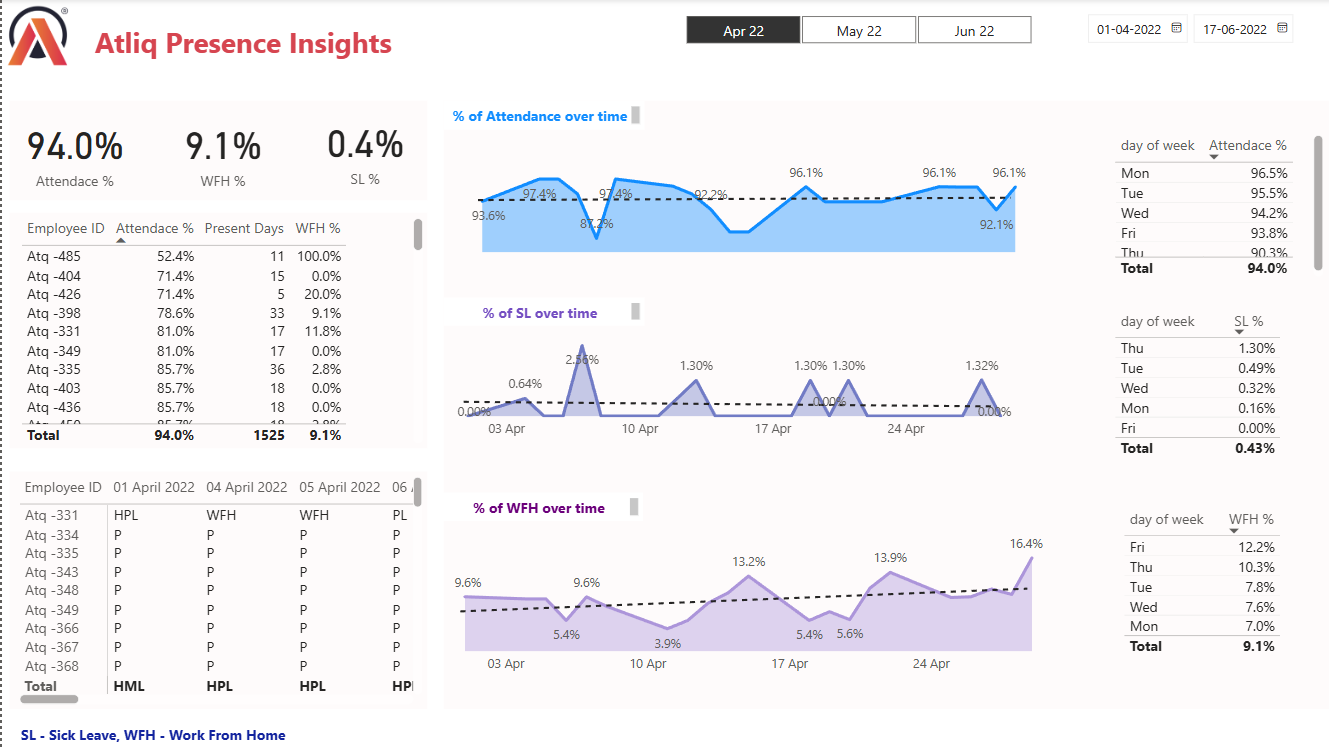

The page's visual inventory and layout, read from the dashboard file:
{"tool":"powerbi","page":{"name":"Page 1","canvas":[3200,1800],"ordinal":0},"visuals":[{"type":"card","fields":{"Values":["Measure Table.Presence %"]},"box":[90.6,193.6,329.4,383],"z":0},{"type":"advancedSlicerVisual","fields":{"Values":["FINAL DATA.Month"]},"box":[2610.9,37.1,588.9,127.7],"z":1000},{"type":"card","fields":{"Values":["Measure Table.WFH %"]},"box":[481.8,193.6,329.4,383],"z":2000},{"type":"card","fields":{"Values":["Measure Table.SL %"]},"box":[889.5,193.6,329.4,383],"z":3000},{"type":"pivotTable","fields":{"Rows":["FINAL DATA.Name"],"Values":["Measure Table.Presence %","Measure Table.WFH %","Measure Table.SL %"]},"box":[29,612,1191.3,850.9],"z":4000},{"type":"pivotTable","fields":{"Rows":["FINAL DATA.Name"],"Values":["Min(FINAL DATA.Value)"],"Columns":["FINAL DATA.Date"]},"box":[29,1484.6,1191.3,249.9],"z":5000},{"type":"areaChart","fields":{"Y":["Measure Table.Presence %"],"Category":["FINAL DATA.Date"]},"box":[1272.5,164.7,1276.6,481.8],"z":6000},{"type":"areaChart","fields":{"Category":["FINAL DATA.Date"],"Y":["Measure Table.WFH %"]},"box":[1272.5,716.6,1276.6,448.9],"z":7000},{"type":"areaChart","fields":{"Category":["FINAL DATA.Date"],"Y":["Measure Table.SL %"]},"box":[1272.5,1235.4,1276.6,498.3],"z":8000},{"type":"tableEx","fields":{"Values":["FINAL DATA.Day of Week","Measure Table.Presence %"]},"box":[2610.9,267.7,560.1,448.9],"z":9000},{"type":"tableEx","fields":{"Values":["FINAL DATA.Day of Week","Measure Table.WFH %"]},"box":[2610.9,749.5,560.1,444.8],"z":10000},{"type":"tableEx","fields":{"Values":["FINAL DATA.Day of Week","Measure Table.SL %"]},"box":[2610.9,1235.4,560.1,535.4],"z":11000},{"type":"textbox","box":[185.3,37.1,856.6,119.4],"z":12000},{"type":"image","box":[28.8,37.1,156.5,119.4],"z":13000},{"type":"advancedSlicerVisual","fields":{"Values":["FINAL DATA.Date"]},"box":[1704.9,37.1,844.2,90.6],"z":14000}]}

Visuals, with their boxes in screenshot pixels (x1, y1, x2, y2), scaled from the page's 3200x1800 canvas onto the 1329x748 screenshot:
card - Measure Table.Presence %: [38,80,174,240]
advancedSlicerVisual - FINAL DATA.Month: [1084,15,1328,68]
card - Measure Table.WFH %: [200,80,337,240]
card - Measure Table.SL %: [369,80,506,240]
pivotTable - FINAL DATA.Name x Measure Table.Presence %: [12,254,507,608]
pivotTable - FINAL DATA.Name x Min(FINAL DATA.Value): [12,617,507,721]
areaChart - Measure Table.Presence % x FINAL DATA.Date: [528,68,1059,269]
areaChart - FINAL DATA.Date x Measure Table.WFH %: [528,298,1059,484]
areaChart - FINAL DATA.Date x Measure Table.SL %: [528,513,1059,720]
tableEx - FINAL DATA.Day of Week x Measure Table.Presence %: [1084,111,1317,298]
tableEx - FINAL DATA.Day of Week x Measure Table.WFH %: [1084,311,1317,496]
tableEx - FINAL DATA.Day of Week x Measure Table.SL %: [1084,513,1317,736]
textbox: [77,15,433,65]
image: [12,15,77,65]
advancedSlicerVisual - FINAL DATA.Date: [708,15,1059,53]
